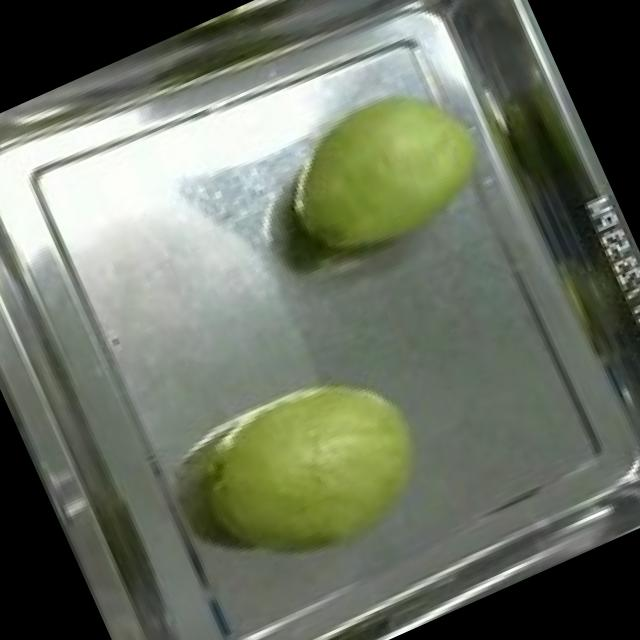Fruit: (168, 331, 458, 599), (251, 51, 518, 290)
